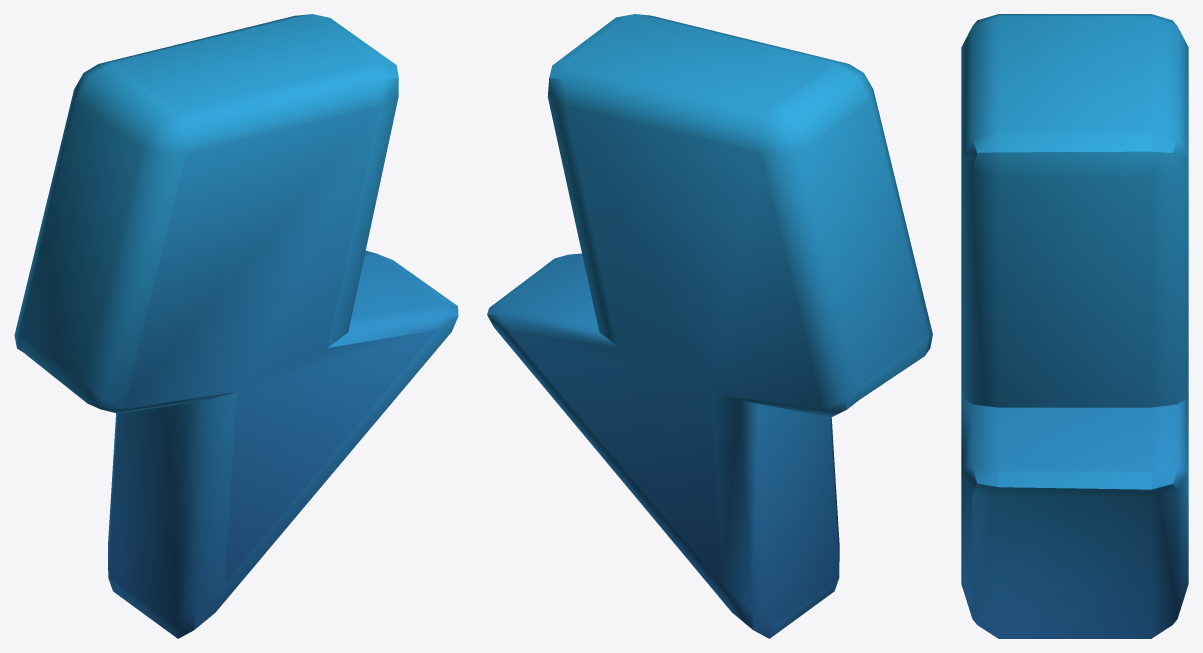
File: power-blue.glb
3 renders of one model, left to right at view 1: azimuth 30°, elevation 25°; view 2: azimuth 150°, elevation 25°; view 3: azimuth 270°, elevation 25°, orthographic. The views are drawn at different scales.
Parts seen in each view (by area): view 1: power_blue; view 2: power_blue; view 3: power_blue.
Part boxes in pixels (<box>): power_blue: <box>14,14,458,638</box>; power_blue: <box>487,14,932,638</box>; power_blue: <box>961,14,1188,638</box>.
Size of the model in its own units: 0.8907 by 1.2 by 0.4.
Materials: 1 (1 with a texture image).
